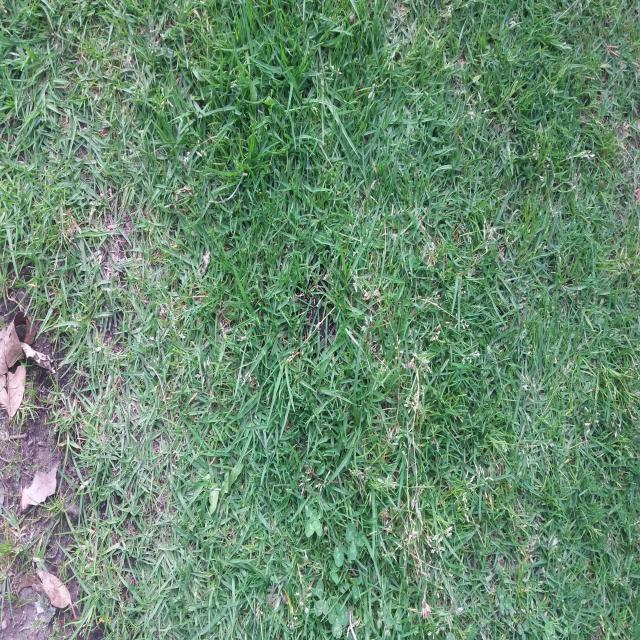Four Leaf Clover: (305, 502, 323, 537)
